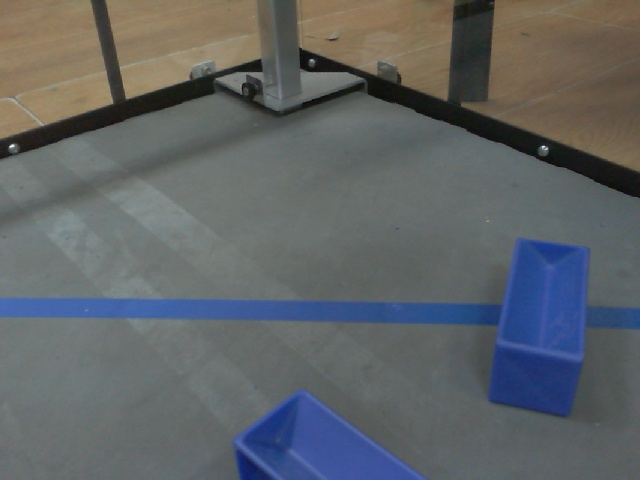BlueSample: (485, 238, 590, 420), (230, 385, 430, 480)
